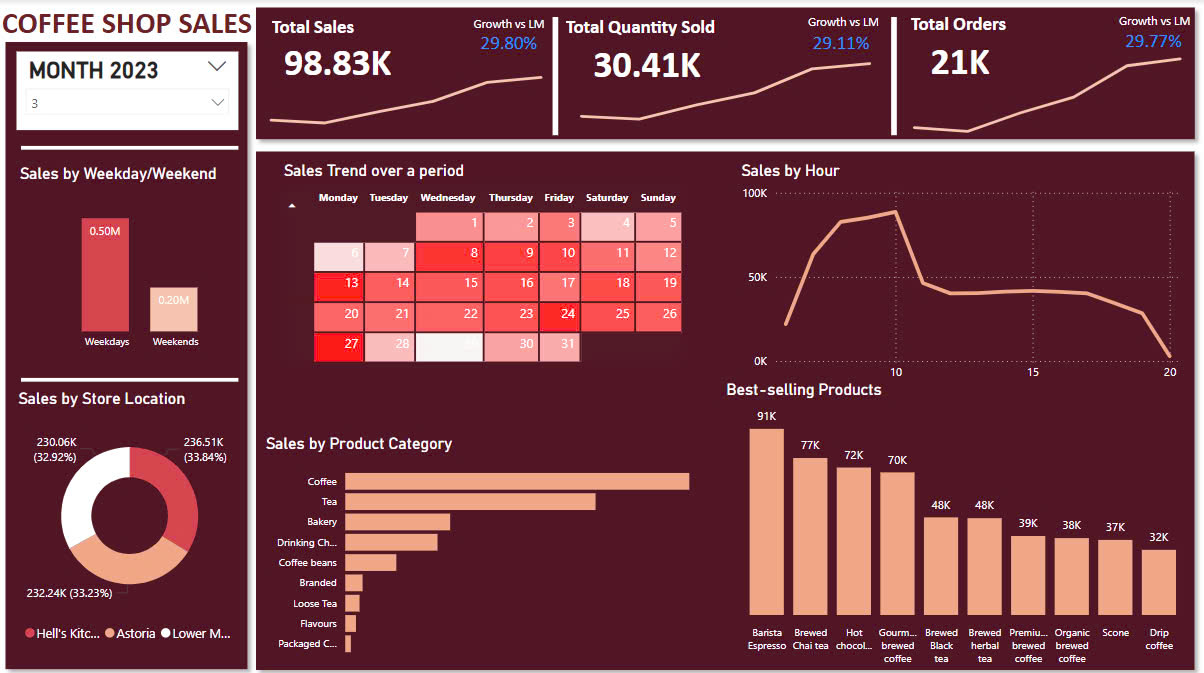

Layout of this report page (visuals, bound fields, positions):
{"tool":"powerbi","page":{"name":"Page 1","canvas":[1280,720],"ordinal":0},"visuals":[{"type":"shape","box":[265.6,152.7,1013.2,567.8],"z":0},{"type":"shape","box":[0,37.3,274.6,683.1],"z":1000},{"type":"shape","box":[266.1,0,1013.6,157.6],"z":2000},{"type":"textbox","box":[0,0,298.3,50.8],"z":3000},{"type":"card","title":"Total Quantity Sold","fields":{"Values":["Sum(vw_quantity.total_qty)"]},"box":[598.3,11.9,181.4,81.4],"z":4000},{"type":"card","title":"Total Sales","fields":{"Values":["Sum(vw_total_sales.total_sales)"]},"box":[286.4,11.9,149.2,78],"z":5000},{"type":"slicer","fields":{"Values":["vw_quantity.MONTH(transaction_date)"]},"box":[20.3,55.9,235.6,83.1],"z":6000},{"type":"card","title":"Total Orders","fields":{"Values":["Sum(vw_order_per_month.COUNT(transaction_id))"]},"box":[964.4,8.5,113.6,81.4],"z":7000},{"type":"card","title":"Growth vs LM","fields":{"Values":["Avg(vw_sales_mom.mom_pct)"]},"box":[499.5,12.7,85.9,50.9],"z":8000},{"type":"lineChart","fields":{"Category":["vw_sales_mom.month"],"Y":["Sum(vw_sales_mom.total_sales)"]},"box":[275.2,50.9,316.5,100.2],"z":9000},{"type":"lineChart","fields":{"Category":["vw_orders_mom.MONTH(transaction_date)"],"Y":["Sum(vw_orders_mom.COUNT(transaction_id))"]},"box":[604.4,39.8,335.6,112.9],"z":10000},{"type":"shape","box":[584.7,18.6,13.6,125.4],"z":11000},{"type":"lineChart","fields":{"Category":["vw_orders_mom.MONTH(transaction_date)"],"Y":["Sum(vw_orders_mom.COUNT(transaction_id))"]},"box":[957.5,30.2,311.8,141.6],"z":12000},{"type":"card","title":"Growth vs LM","fields":{"Values":["Avg(vw_orders_mom.mom_ord_pct)"]},"box":[1181.4,10.2,88.1,54.2],"z":13000},{"type":"card","title":"Growth vs LM","fields":{"Values":["Avg(vw_qty_mom.mom_qty_pct)"]},"box":[849.4,11.1,90.7,54.1],"z":14000},{"type":"columnChart","title":"Sales by Weekday/Weekend","fields":{"Category":["vw_weekday_weekend.day_type"],"Y":["Sum(vw_weekday_weekend.total_sales)"]},"box":[19.1,175,267.2,205.2],"z":15000},{"type":"shape","box":[25.4,152.5,230.5,10.2],"z":16000},{"type":"shape","box":[939,18.6,25.4,125.4],"z":17000},{"type":"donutChart","title":"Sales by Store Location","fields":{"Category":["vw_sales_store.store_location"],"Y":["Sum(vw_sales_store.total_sales)"]},"box":[16.9,413.6,245.8,278],"z":18000},{"type":"shape","box":[25.4,394.9,230.5,18.6],"z":19000},{"type":"barChart","title":"Sales by Product Category","fields":{"Category":["vw_sales_category.product_category"],"Y":["Sum(vw_sales_category.total_sales)"]},"box":[279.9,461.3,499.5,245],"z":20000},{"type":"columnChart","title":"Best-selling Products","fields":{"Category":["vw_sales_product10.product_type"],"Y":["Sum(vw_sales_product10.total_sales)"]},"box":[768.3,404,505.8,310.2],"z":21000},{"type":"pivotTable","title":"Sales Trend over a period","fields":{"Rows":["vw_sales_final.week_num"],"Columns":["vw_sales_final.Day_of_Week"],"Values":["Sum(vw_sales_final.Day)"]},"box":[299,171.8,445.4,238.6],"z":22000},{"type":"lineChart","title":"Sales by Hours","fields":{"Category":["vw_hourly_sales.Hour_of_Day"],"Y":["Sum(vw_hourly_sales.Total_Sales)"]},"box":[784.2,171.8,474,241.8],"z":23000}]}

Visuals, with their boxes in screenshot pixels (x1, y1, x2, y2), scaled from the page's 1280x720 canvas onto the 1204x673 screenshot:
shape: pyautogui.locateOnScreen(250, 143, 1203, 672)
shape: pyautogui.locateOnScreen(0, 35, 258, 672)
shape: pyautogui.locateOnScreen(250, 0, 1203, 147)
textbox: pyautogui.locateOnScreen(0, 0, 281, 47)
"Total Quantity Sold" card: pyautogui.locateOnScreen(563, 11, 733, 87)
"Total Sales" card: pyautogui.locateOnScreen(269, 11, 410, 84)
slicer - vw_quantity.MONTH(transaction_date): pyautogui.locateOnScreen(19, 52, 241, 130)
"Total Orders" card: pyautogui.locateOnScreen(907, 8, 1014, 84)
"Growth vs LM" card: pyautogui.locateOnScreen(470, 12, 551, 59)
lineChart - vw_sales_mom.month x Sum(vw_sales_mom.total_sales): pyautogui.locateOnScreen(259, 48, 557, 141)
lineChart - vw_orders_mom.MONTH(transaction_date) x Sum(vw_orders_mom.COUNT(transaction_id)): pyautogui.locateOnScreen(569, 37, 884, 143)
shape: pyautogui.locateOnScreen(550, 17, 563, 135)
lineChart - vw_orders_mom.MONTH(transaction_date) x Sum(vw_orders_mom.COUNT(transaction_id)): pyautogui.locateOnScreen(901, 28, 1194, 161)
"Growth vs LM" card: pyautogui.locateOnScreen(1111, 10, 1194, 60)
"Growth vs LM" card: pyautogui.locateOnScreen(799, 10, 884, 61)
"Sales by Weekday/Weekend" columnChart: pyautogui.locateOnScreen(18, 164, 269, 355)
shape: pyautogui.locateOnScreen(24, 143, 241, 152)
shape: pyautogui.locateOnScreen(883, 17, 907, 135)
"Sales by Store Location" donutChart: pyautogui.locateOnScreen(16, 387, 247, 646)
shape: pyautogui.locateOnScreen(24, 369, 241, 387)
"Sales by Product Category" barChart: pyautogui.locateOnScreen(263, 431, 733, 660)
"Best-selling Products" columnChart: pyautogui.locateOnScreen(723, 378, 1198, 668)
"Sales Trend over a period" pivotTable: pyautogui.locateOnScreen(281, 161, 700, 384)
"Sales by Hours" lineChart: pyautogui.locateOnScreen(738, 161, 1183, 387)
